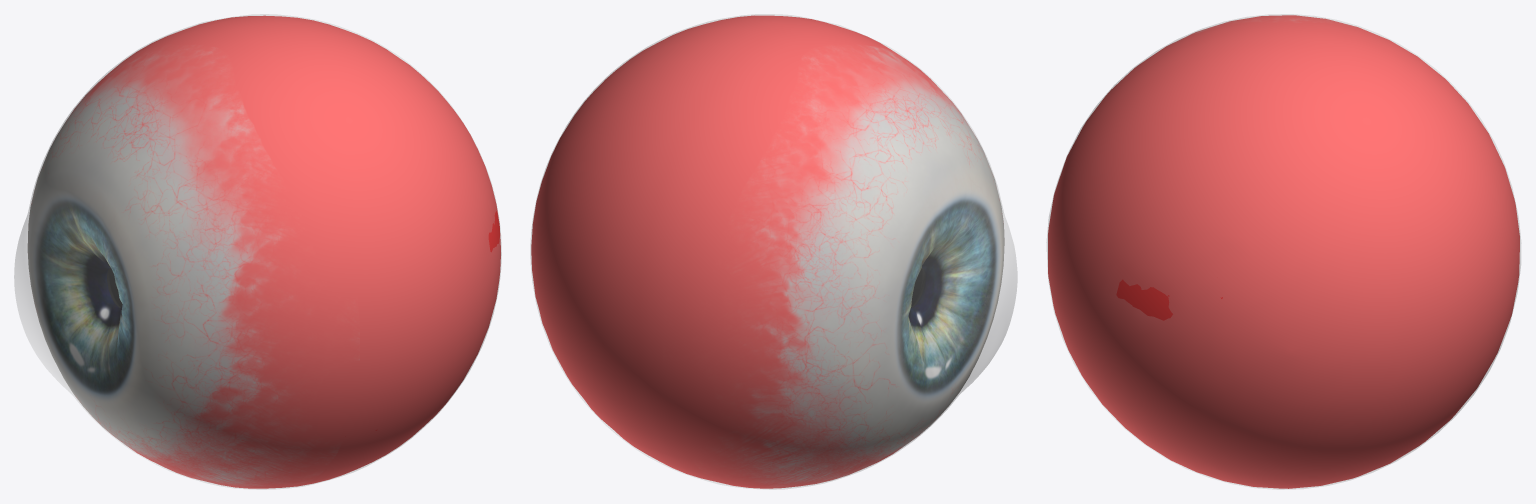
The picture shows the model from 3 angles, left to right: view 1: azimuth 30°, elevation 25°; view 2: azimuth 150°, elevation 25°; view 3: azimuth 270°, elevation 25°; orthographic projection.
Parts seen in each view (by area): view 1: OUTER_EYE (×2), INNER_EYE (×2); view 2: OUTER_EYE (×2), INNER_EYE (×2); view 3: INNER_EYE (×2), OUTER_EYE (×2).
Boxes of the visible parts, box(x1,y1,x2,y2) form: OUTER_EYE (×2): box(14, 14, 501, 489); INNER_EYE (×2): box(27, 15, 500, 488); OUTER_EYE (×2): box(530, 14, 1017, 489); INNER_EYE (×2): box(531, 15, 1004, 488); INNER_EYE (×2): box(1048, 15, 1519, 488); OUTER_EYE (×2): box(1046, 14, 1521, 489).
Size of the model in its own units: 2.24 by 2.11 by 2.11.
6 materials, 2 textured.
